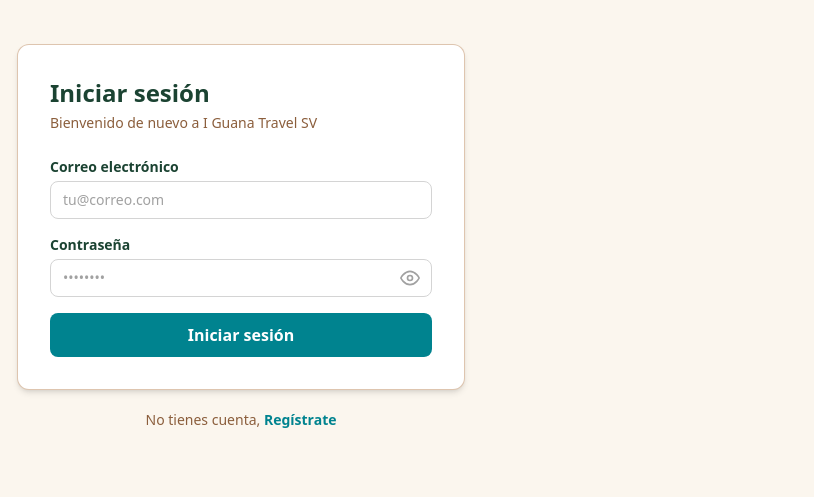
Test: ES active: extraction keeps the canonical Spanish UI byte-comparable › renders the original login literals after moving them into resources
Check: the heading reads "Iniciar sesión", box [50,76,210,109]
Check: the text "Bienvenido de nuevo a I Guana Travel SV" is shown, box [50,113,317,132]
Click the button "Iniciar sesión" at coordinates (241, 335), box [50,313,432,357]
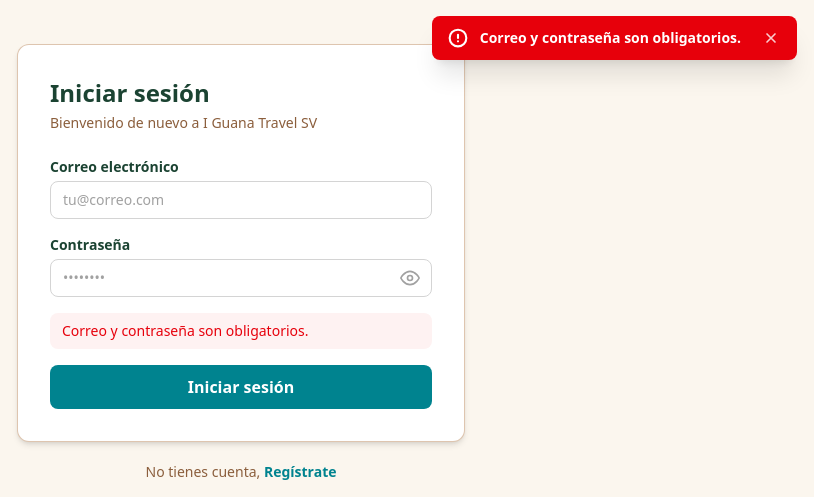
Check: the text "Correo y contraseña son obligatorios." is shown 2 times, box [50,313,432,349]; [480,28,741,48]
